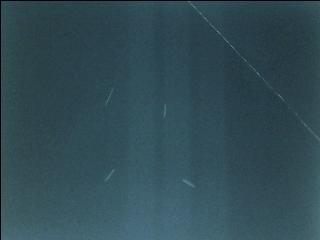crack: (189, 0, 320, 140)
scratch: (96, 82, 120, 114), (97, 163, 123, 187), (177, 171, 198, 197), (156, 99, 174, 123)
